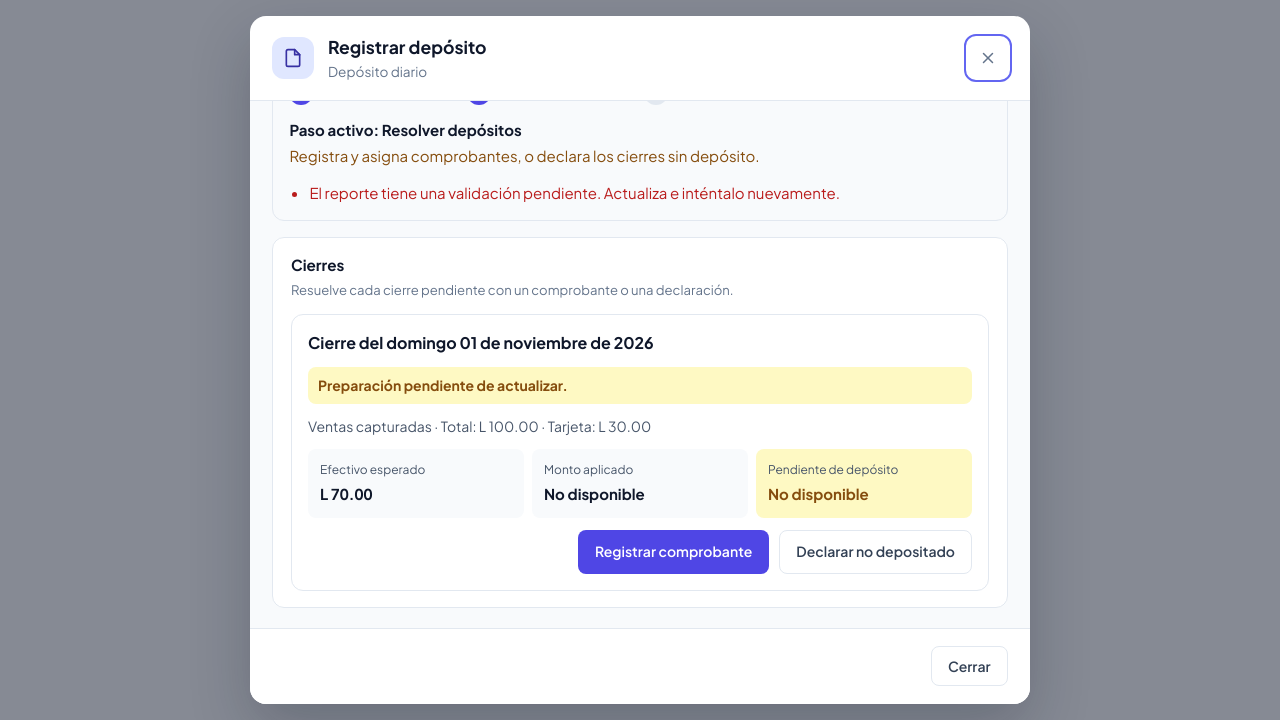
Test: DepositDemoModal › requires a nonblank reason after selecting no-deposit declaration
(page scrolled)
Click the button "Declarar no depositado" at (876,552), box x1=779 y1=530 x2=972 y2=574
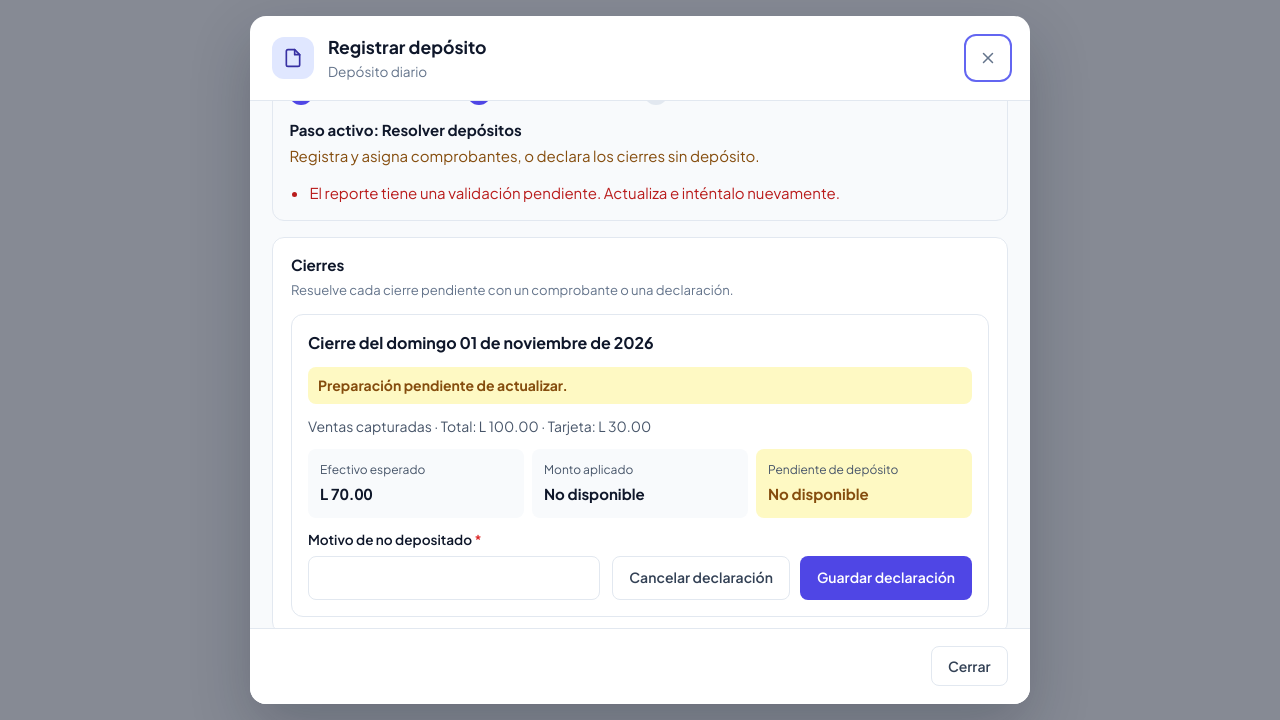
Click the button "Guardar declaración" at (886,578), box x1=800 y1=556 x2=972 y2=600
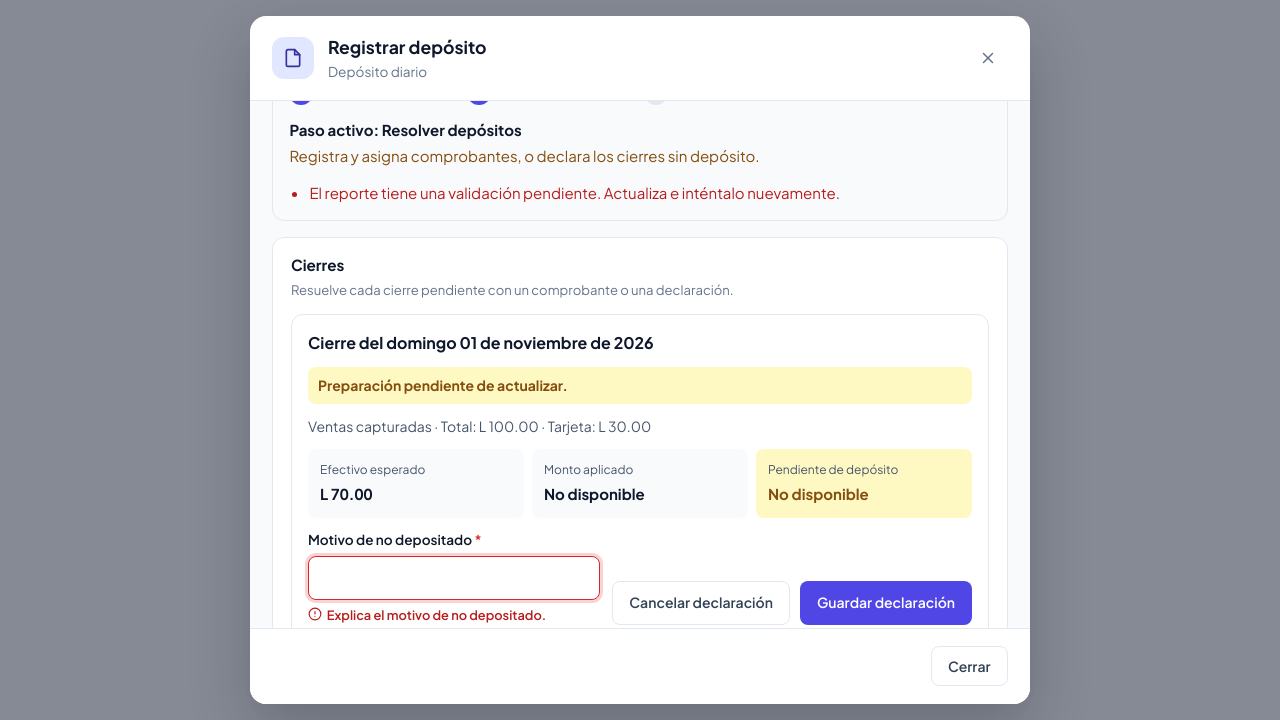
Result: the text "Explica el motivo de no depositado." is shown at x1=308 y1=606 x2=546 y2=622
